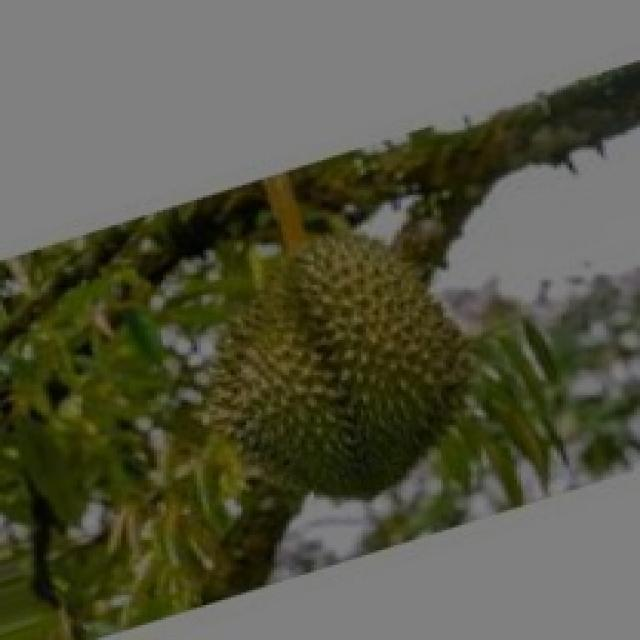fruit: (0, 225, 400, 627), (154, 178, 508, 548)
